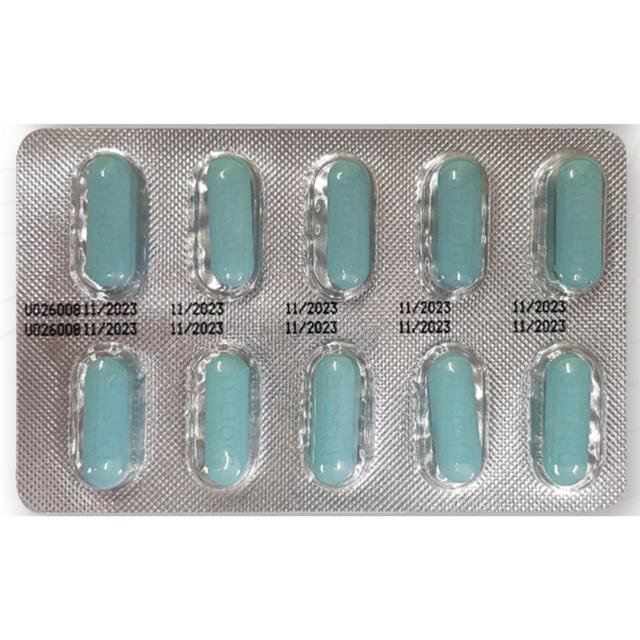blister: (8, 120, 632, 514)
